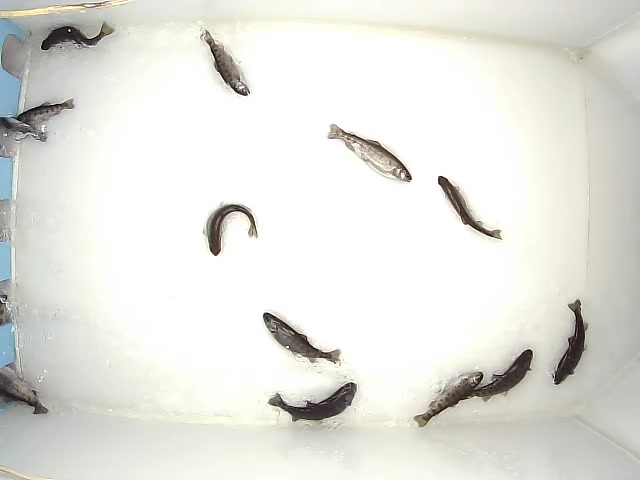fish: (326, 123, 414, 184), (437, 175, 504, 242), (262, 311, 343, 365), (412, 370, 484, 429), (459, 348, 534, 403), (266, 381, 358, 423), (199, 25, 251, 97), (201, 199, 259, 258), (40, 20, 116, 52), (14, 96, 77, 128), (1, 117, 49, 143)
